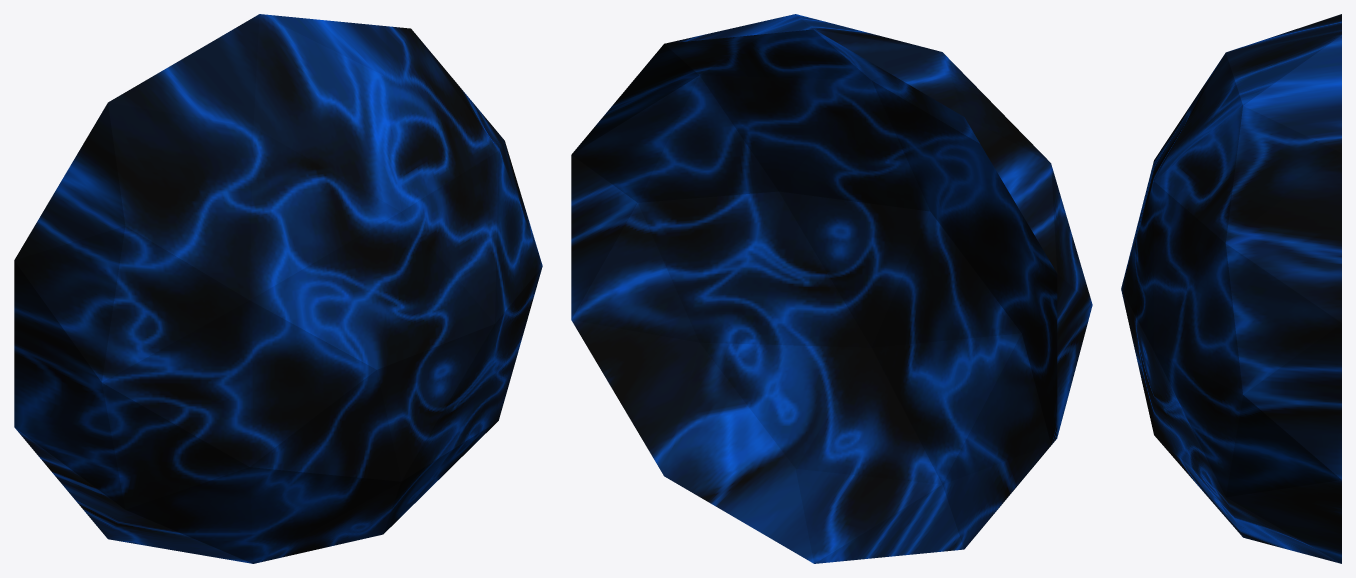
File: tx_cj_nengliangzhao.obj
The picture shows the model from 3 angles, left to right: view 1: azimuth 30°, elevation 25°; view 2: azimuth 150°, elevation 25°; view 3: azimuth 270°, elevation 25°; orthographic projection. The views are drawn at different scales.
Parts seen in each view (by area): view 1: GeoSphere01; view 2: GeoSphere01; view 3: GeoSphere01.
Part boxes in pixels (left/top/right/bottom): GeoSphere01: left=14, top=14, right=542, bottom=563; GeoSphere01: left=571, top=14, right=1092, bottom=563; GeoSphere01: left=1121, top=14, right=1341, bottom=563.
Bounding box in the file's own units: 360 × 379 × 149.
Materials: 1 (1 with a texture image).
